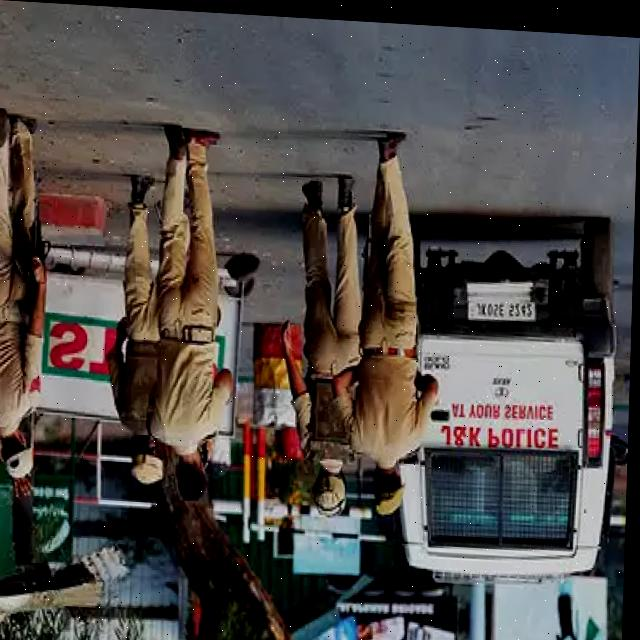plate: (465, 288, 543, 325)
